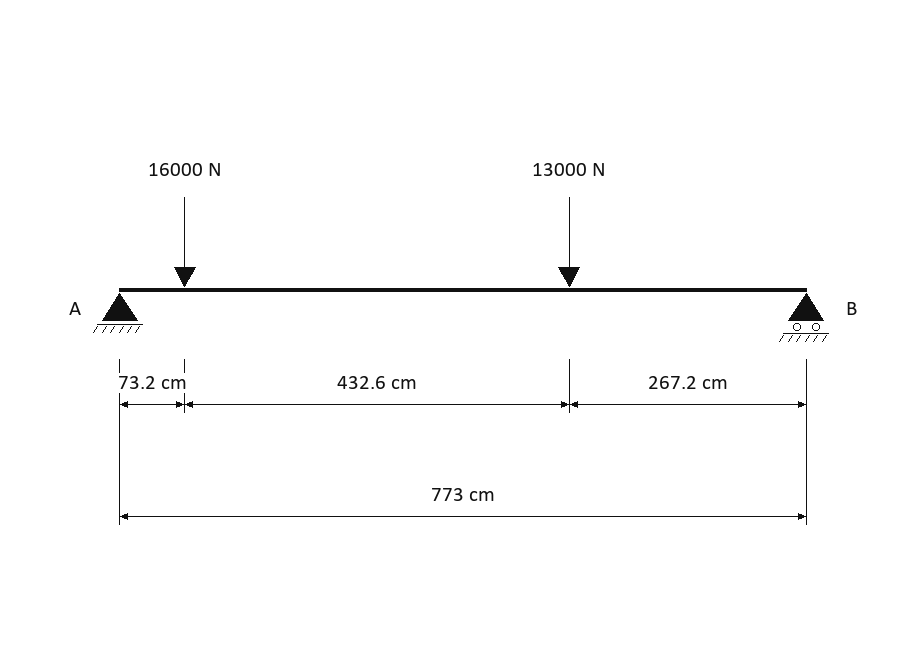pin_support: (93, 293, 143, 333)
point_load: (174, 197, 196, 287), (558, 197, 580, 287)
roller_support: (779, 293, 829, 342)
